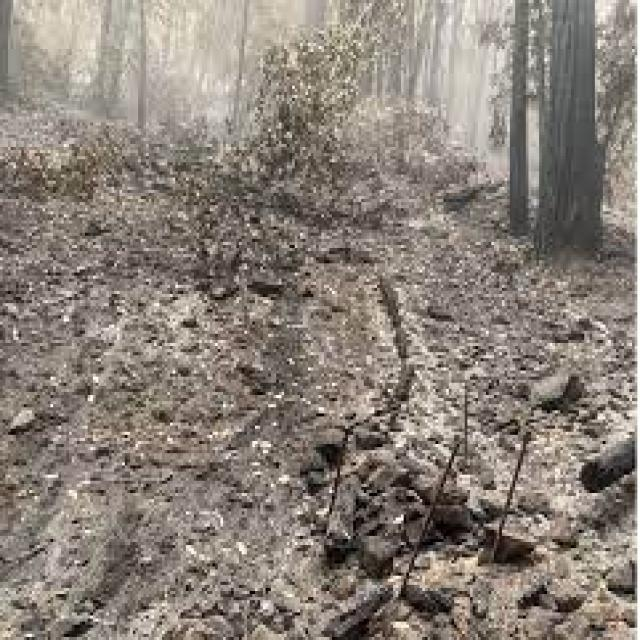Forest Fire: (106, 92, 577, 600)
